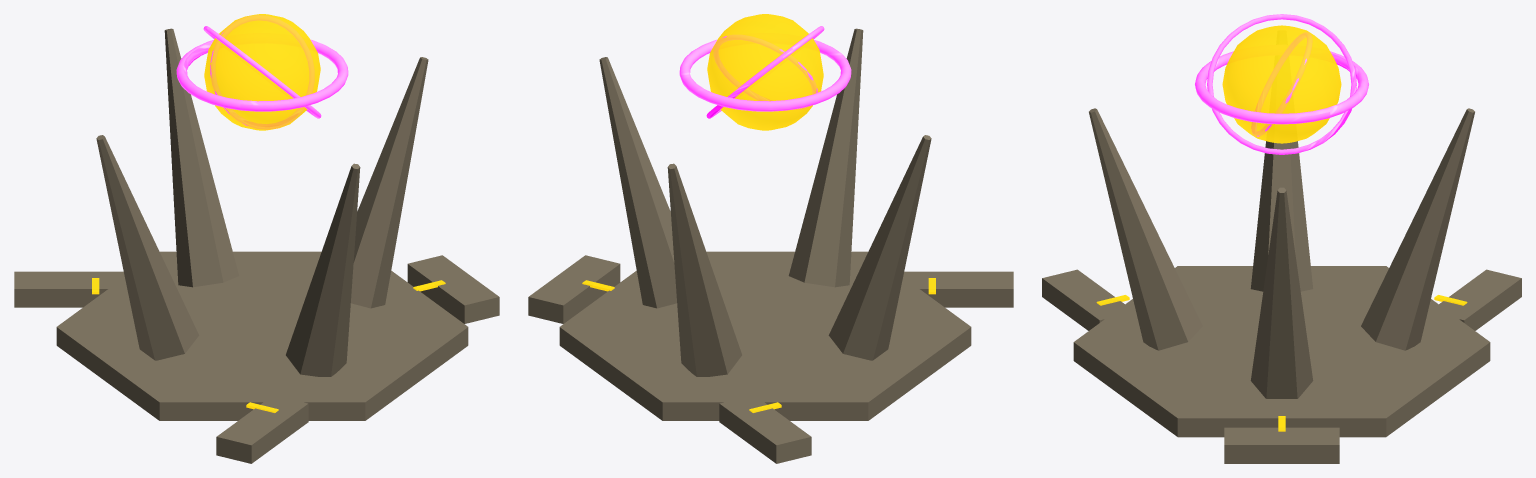
The model's file is solar_astral_forge.glb.
3 views of the same model, side by side, from view 1: azimuth 30°, elevation 25°; view 2: azimuth 150°, elevation 25°; view 3: azimuth 270°, elevation 25° (orthographic).
Parts seen in each view (by area): view 1: SolarAstralForge; view 2: SolarAstralForge; view 3: SolarAstralForge.
Boxes of the visible parts, x1=… form: SolarAstralForge: x1=14, y1=14, x2=499, y2=463; SolarAstralForge: x1=528, y1=14, x2=1013, y2=463; SolarAstralForge: x1=1042, y1=14, x2=1521, y2=463.
Bounding box in the file's own units: 5.87 × 4.9 × 6.45.
3 materials, 3 textured.
